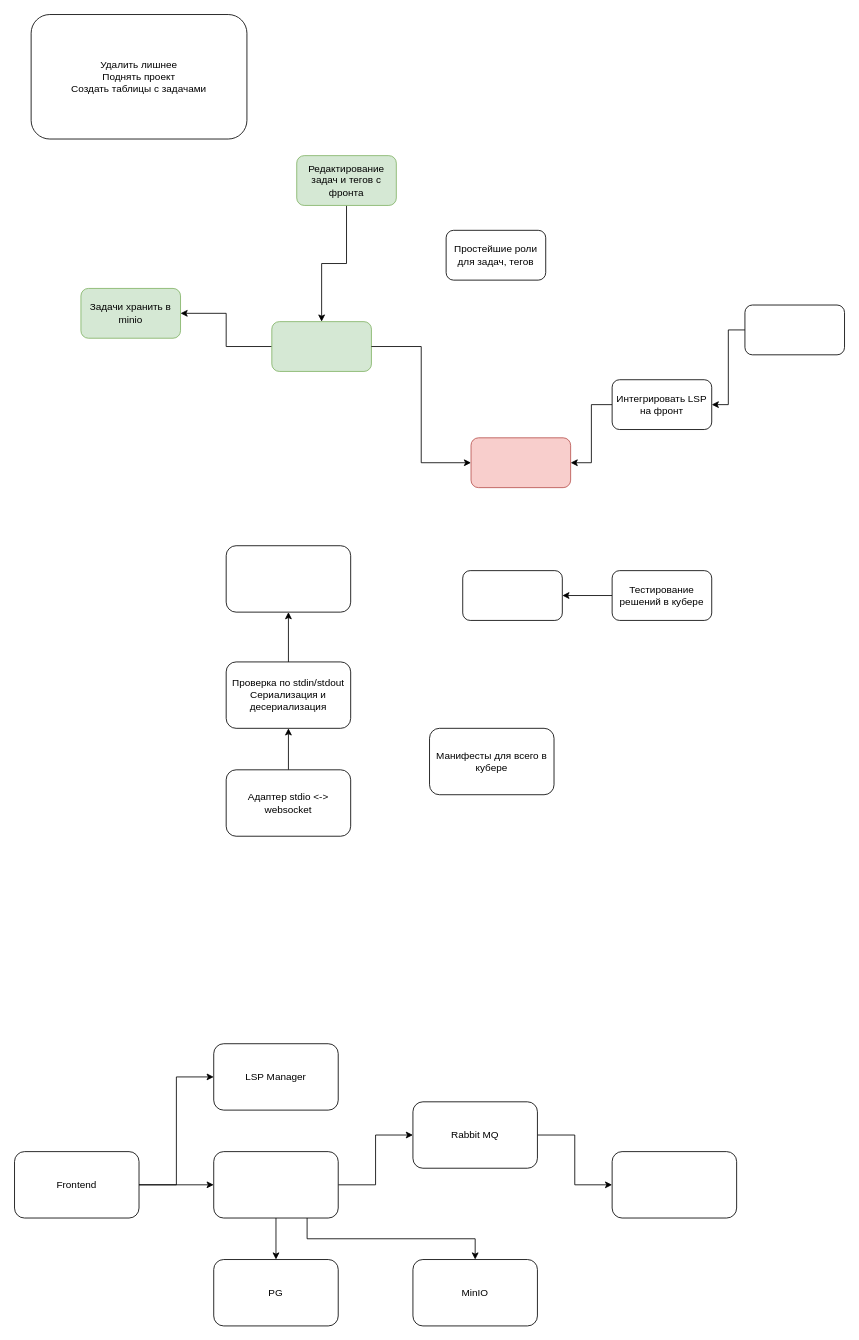
This 859x1340 diagram has some shape labels left out. Here are the shapes that lost their labels. From the top down, the centre of each, then its label:
point (321, 346): Хранение метаданных задач и тегов в БД
point (794, 329): Переделать LSP manager на докер
point (520, 462): Корень необходимого
point (288, 578): Для кубера нужны особенные задачи
point (512, 595): Кубер не подходит для разработки.
point (275, 1184): Webserver
point (674, 1184): Pod Manager
